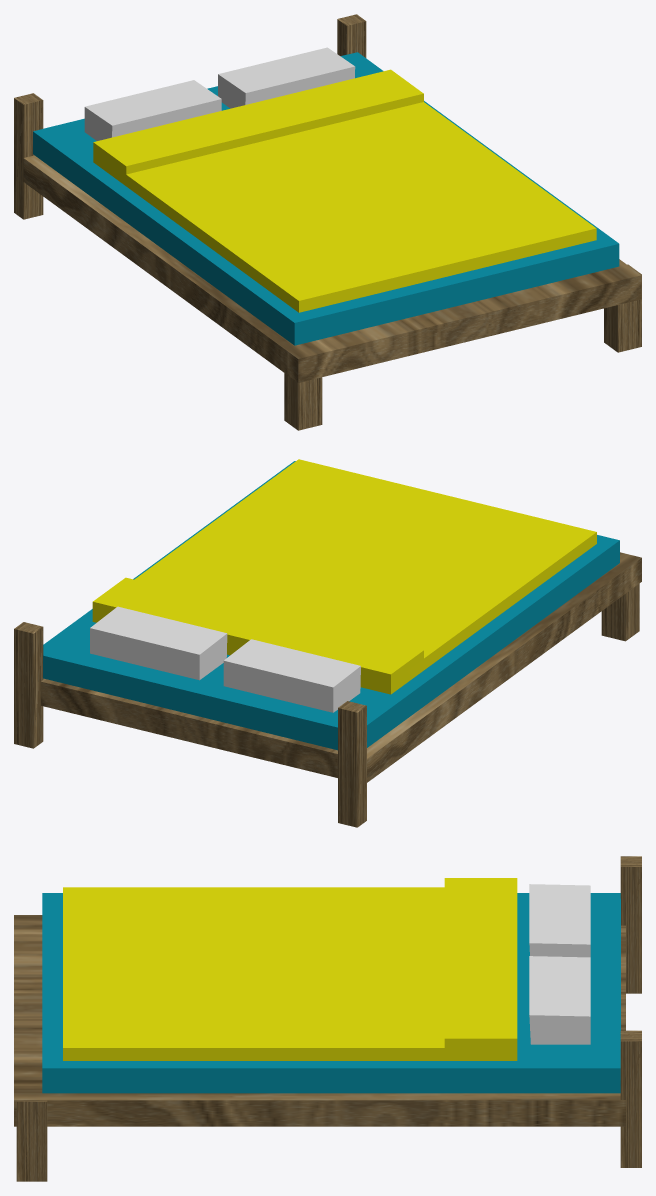
Rendered from Bed.fbx.
The picture shows the model from 3 angles, top to bottom: view 1: azimuth 30°, elevation 25°; view 2: azimuth 150°, elevation 25°; view 3: azimuth 270°, elevation 25°; orthographic projection. The views are drawn at different scales.
Visible parts, largest first — view 1: pasted__pCube29, pasted__pCube30, pasted__pCube35, pasted__pCube33, pasted__pCube36, pasted__pCube34, pasted__pCube31, pasted__pCube32, pasted__pCube27; view 2: pasted__pCube29, pasted__pCube35, pasted__pCube30, pasted__pCube33, pasted__pCube36, pasted__pCube27, pasted__pCube34, pasted__pCube31; view 3: pasted__pCube29, pasted__pCube35, pasted__pCube30, pasted__pCube36, pasted__pCube33, pasted__pCube27, pasted__pCube32, pasted__pCube34.
Boxes of the visible parts, x1,y1,x2,y2 form: pasted__pCube29: [93, 69, 596, 312]; pasted__pCube30: [23, 155, 641, 382]; pasted__pCube35: [33, 52, 619, 345]; pasted__pCube33: [84, 80, 221, 140]; pasted__pCube36: [218, 47, 355, 108]; pasted__pCube34: [14, 93, 43, 219]; pasted__pCube31: [284, 373, 322, 430]; pasted__pCube32: [604, 264, 641, 352]; pasted__pCube27: [337, 14, 366, 57]; pasted__pCube29: [92, 459, 596, 694]; pasted__pCube35: [43, 461, 619, 750]; pasted__pCube30: [41, 552, 641, 782]; pasted__pCube33: [223, 639, 360, 712]; pasted__pCube36: [90, 606, 227, 680]; pasted__pCube27: [14, 622, 43, 748]; pasted__pCube34: [338, 701, 366, 827]; pasted__pCube31: [601, 583, 639, 641]; pasted__pCube29: [63, 878, 517, 1060]; pasted__pCube35: [42, 893, 620, 1093]; pasted__pCube30: [14, 915, 625, 1126]; pasted__pCube36: [529, 956, 590, 1044]; pasted__pCube33: [529, 884, 590, 957]; pasted__pCube27: [620, 1030, 641, 1167]; pasted__pCube32: [16, 1100, 47, 1181]; pasted__pCube34: [620, 856, 641, 993].
Bounding box in the file's own units: 7.39 × 2.58 × 10.54.
